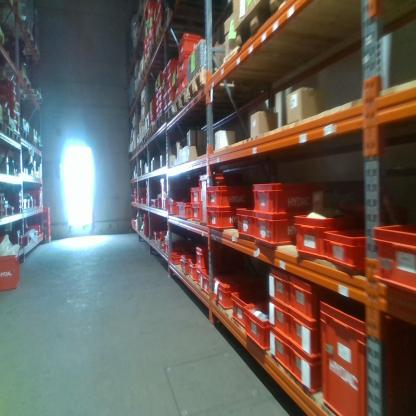pallet: (236, 2, 286, 55), (187, 66, 214, 105), (155, 16, 168, 49), (175, 86, 187, 120), (157, 105, 164, 135), (2, 125, 14, 141), (147, 121, 156, 142), (166, 100, 172, 131), (143, 51, 150, 77), (20, 128, 30, 146), (21, 72, 31, 90), (32, 90, 43, 106), (150, 38, 156, 60), (29, 136, 37, 149), (14, 132, 20, 149), (1, 120, 4, 133)
small_load_carrier: (317, 299, 409, 415), (293, 209, 355, 262), (254, 178, 330, 216), (373, 222, 414, 291), (200, 170, 244, 234), (325, 226, 372, 272), (212, 268, 257, 314), (243, 300, 274, 355), (288, 343, 322, 393), (287, 311, 321, 358), (287, 276, 321, 322), (255, 215, 295, 248), (203, 184, 254, 209), (266, 266, 295, 309), (265, 301, 295, 342), (268, 329, 292, 374), (229, 289, 253, 329), (234, 205, 256, 246), (204, 210, 240, 235), (0, 250, 21, 291), (178, 33, 205, 58), (195, 242, 221, 265), (167, 247, 196, 267), (143, 211, 158, 242), (198, 270, 214, 296), (163, 58, 179, 79), (164, 198, 178, 219), (176, 199, 190, 218), (190, 185, 202, 206), (189, 206, 202, 225), (180, 56, 190, 79), (181, 253, 190, 277), (153, 228, 168, 242), (172, 66, 181, 87), (196, 263, 203, 287), (173, 85, 181, 106), (180, 75, 188, 94), (167, 92, 173, 107), (191, 260, 195, 281), (168, 76, 173, 91)
